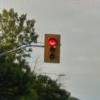Traffic light: (38, 31, 65, 66)
